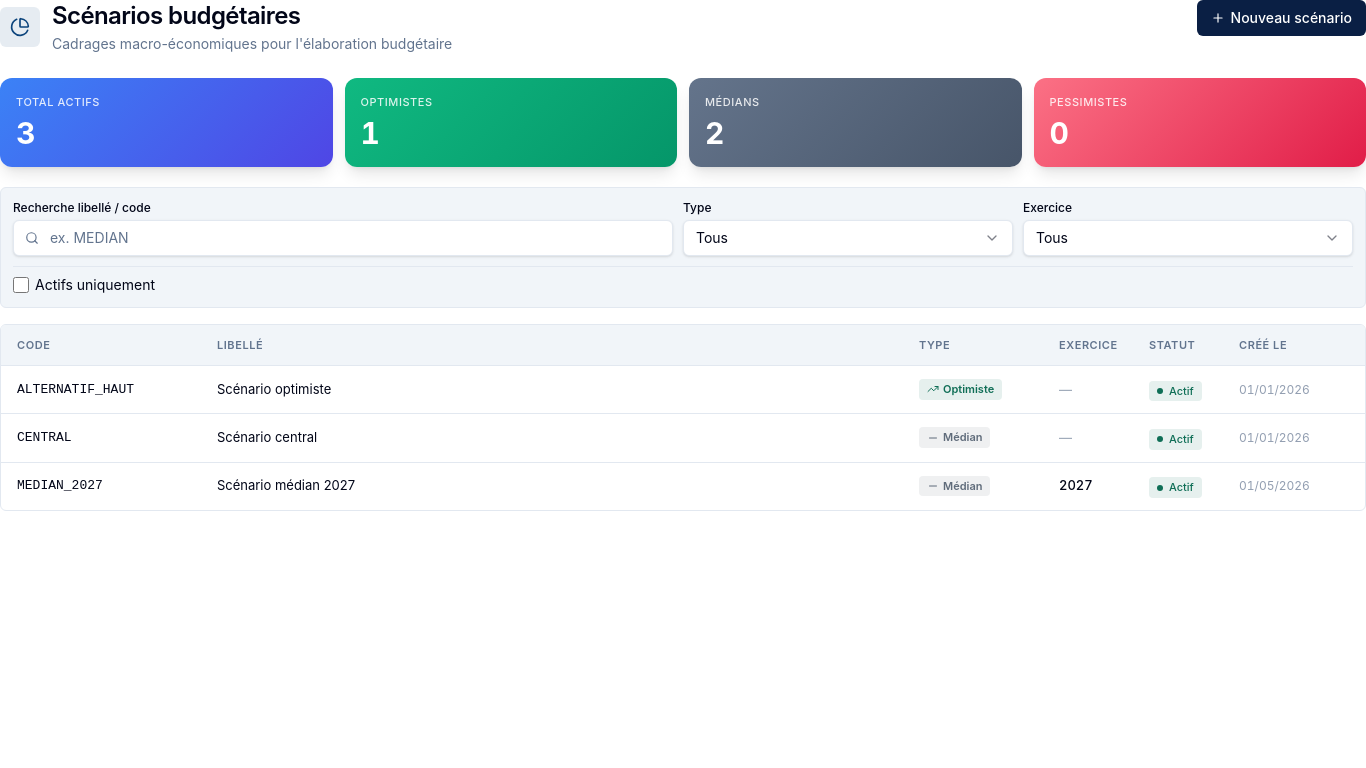
Test: ScenariosPage › drawer admin : Modifier + Archiver visibles sur scénario actif
Click the text "Scénario central" at {"x": 267, "y": 437}, box [217,429,317,445]
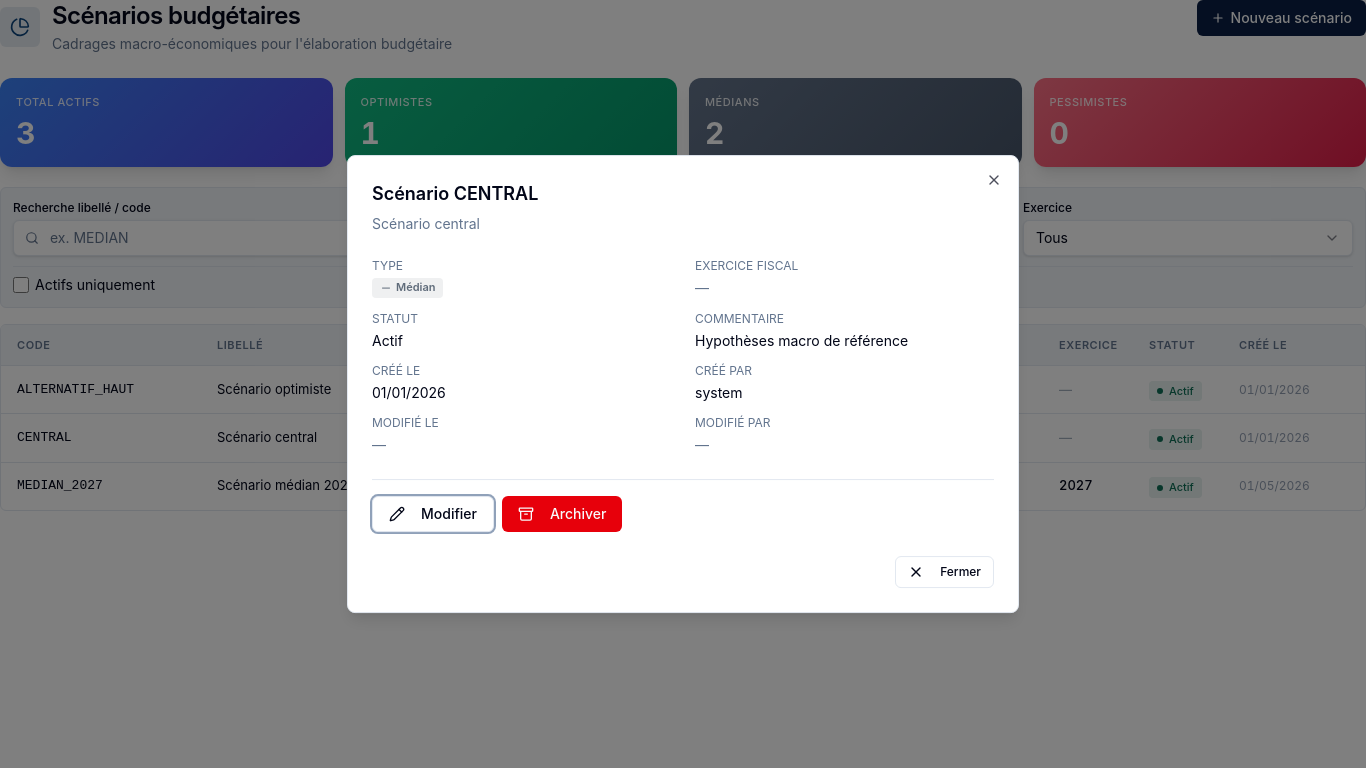
Now the button "Modifier" is shown, box [372,496,494,532]
Now the button "Archiver" is shown, box [502,496,622,532]
